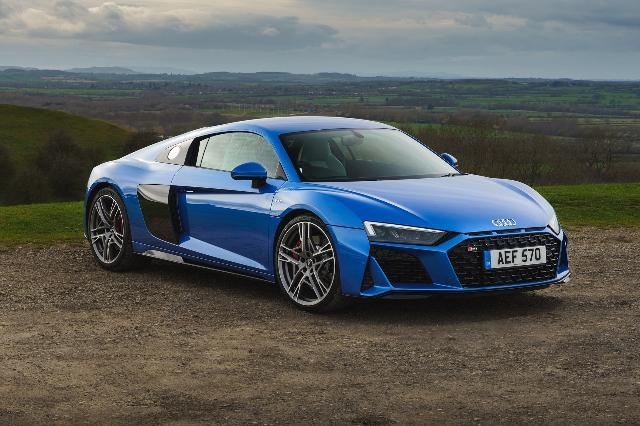audi: (84, 116, 572, 313)
